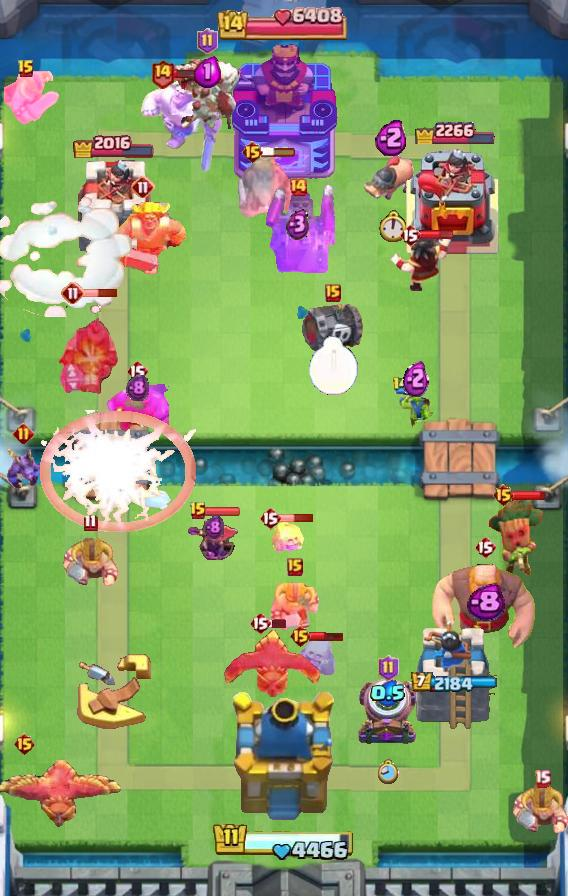balloon: (432, 563, 538, 659)
barbarian-evolution: (38, 410, 196, 532)
bat-evolution: (294, 634, 336, 678), (269, 520, 305, 558)
clock: (212, 821, 356, 863), (217, 6, 351, 40)
electro-spirit: (467, 582, 506, 622), (375, 118, 409, 156), (403, 358, 429, 398), (370, 681, 406, 708), (194, 56, 221, 88), (286, 208, 310, 240), (127, 374, 150, 402), (204, 516, 224, 541)
elixir: (308, 336, 359, 396), (378, 210, 406, 242), (378, 759, 399, 785)
emote: (261, 146, 297, 158), (172, 68, 208, 79), (205, 507, 241, 518), (309, 630, 345, 641), (419, 229, 454, 240), (512, 490, 546, 501), (82, 288, 117, 298), (279, 513, 314, 523), (268, 619, 288, 630)
evolution-symbol: (188, 513, 240, 573)
executioner: (364, 153, 420, 201)
goblin-barrel: (487, 499, 545, 579)
goblin-cage: (356, 677, 420, 747)
goblin-giant: (0, 70, 60, 126), (62, 536, 118, 590), (512, 783, 568, 837), (268, 580, 322, 632)
goblin-hut: (137, 75, 223, 175), (100, 202, 186, 274)
inferno-dragon: (55, 296, 121, 398)
king-tower: (227, 692, 341, 826), (230, 41, 338, 181)
lumberjack: (389, 234, 455, 292)
mini-pekka: (171, 59, 243, 129)
mortar-evolution: (236, 152, 294, 220)
mother-witch: (0, 760, 124, 834), (222, 627, 322, 699)
queen-tower: (403, 146, 503, 256), (409, 616, 497, 731), (73, 160, 154, 257)
royal-delivery: (5, 449, 41, 491)
royal-recruit-evolution: (302, 298, 364, 354)
selected: (413, 116, 496, 144), (72, 132, 156, 158), (411, 672, 498, 694)
skeleton-king-bar: (261, 185, 335, 273)
text: (149, 58, 174, 89), (131, 175, 155, 199), (61, 281, 85, 305), (288, 624, 312, 648), (241, 140, 264, 164), (493, 483, 516, 507), (13, 732, 36, 756), (197, 28, 218, 54), (378, 655, 399, 681), (399, 223, 421, 247), (126, 359, 148, 383), (259, 506, 281, 530), (474, 535, 496, 559), (249, 611, 271, 635), (14, 423, 35, 445), (288, 177, 308, 197), (393, 377, 412, 396), (17, 59, 35, 79), (189, 501, 207, 521), (533, 769, 550, 788), (325, 284, 341, 302), (287, 558, 303, 576), (83, 512, 98, 531)
tornado: (105, 383, 169, 433)
wall-breaker: (0, 195, 136, 317)
zap: (398, 389, 434, 429)
